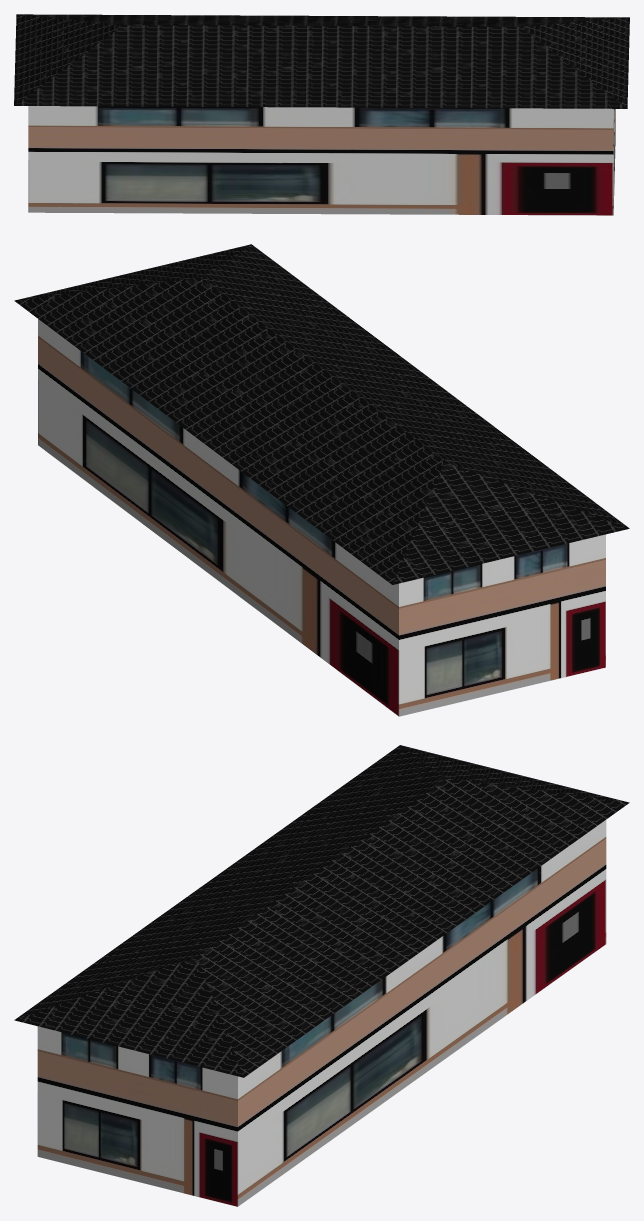
The picture shows the model from 3 angles, top to bottom: view 1: azimuth 30°, elevation 25°; view 2: azimuth 150°, elevation 25°; view 3: azimuth 270°, elevation 25°; orthographic projection. The views are drawn at different scales.
Parts seen in each view (by area): view 1: CityEngineMaterial_5_m, CityEngineMaterial_14_m; view 2: CityEngineMaterial_14_m, CityEngineMaterial_5_m; view 3: CityEngineMaterial_14_m, CityEngineMaterial_5_m.
Part boxes in pixels (box(x1,y1,x2,y2)): CityEngineMaterial_5_m: box(28, 106, 615, 215); CityEngineMaterial_14_m: box(14, 14, 629, 108); CityEngineMaterial_14_m: box(14, 244, 629, 584); CityEngineMaterial_5_m: box(38, 319, 605, 716); CityEngineMaterial_14_m: box(14, 745, 629, 1077); CityEngineMaterial_5_m: box(37, 820, 606, 1206).
Size of the model in its own units: 42.69 by 10.95 by 33.38.
